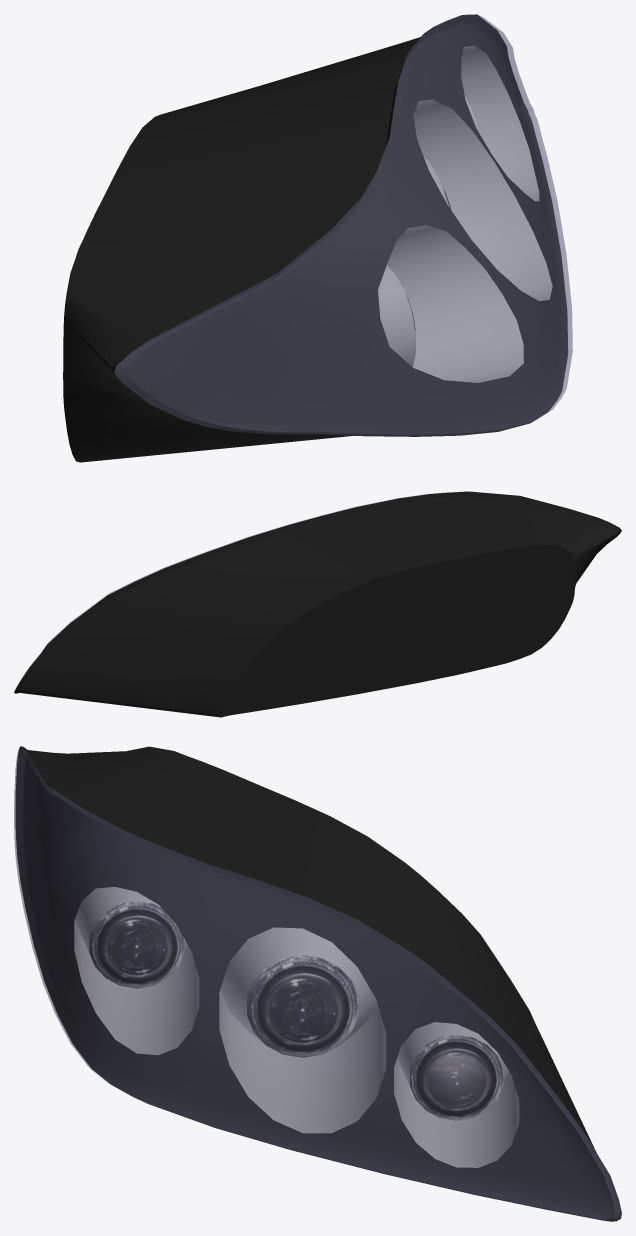
The picture shows the model from 3 angles, top to bottom: view 1: azimuth 30°, elevation 25°; view 2: azimuth 150°, elevation 25°; view 3: azimuth 270°, elevation 25°; orthographic projection. The views are drawn at different scales.
Visible parts, largest first — view 1: D160_061B_R_D160_061B_R_5_N, D160_061B_R_D160_061B_R_6_DTaSI, D160_061B_R_D160_061B_R_4_N; view 2: D160_061B_R_D160_061B_R_5_N, D160_061B_R_D160_061B_R_6_DTaSI; view 3: D160_061B_R_D160_061B_R_6_DTaSI, D160_061B_R_D160_061B_R_5_N, D160_061B_R_D160_061B_R_4_N, D160_061B_R_1_N_D160_061B_R, D160_061B_R_D160_061B_R_3_N, D160_061B_R_D160_061B_R_2_N.
Boxes of the visible parts, <box> form: D160_061B_R_D160_061B_R_5_N: <box>63,14,568,462</box>; D160_061B_R_D160_061B_R_6_DTaSI: <box>114,14,572,436</box>; D160_061B_R_D160_061B_R_4_N: <box>378,45,552,382</box>; D160_061B_R_D160_061B_R_5_N: <box>14,491,621,717</box>; D160_061B_R_D160_061B_R_6_DTaSI: <box>20,491,467,680</box>; D160_061B_R_D160_061B_R_6_DTaSI: <box>14,746,621,1221</box>; D160_061B_R_D160_061B_R_5_N: <box>15,746,621,1221</box>; D160_061B_R_D160_061B_R_4_N: <box>74,887,519,1167</box>; D160_061B_R_1_N_D160_061B_R: <box>247,955,358,1057</box>; D160_061B_R_D160_061B_R_3_N: <box>89,901,184,988</box>; D160_061B_R_D160_061B_R_2_N: <box>410,1034,503,1120</box>.
Bounding box in the file's own units: 53.39 × 17.61 × 45.99.
